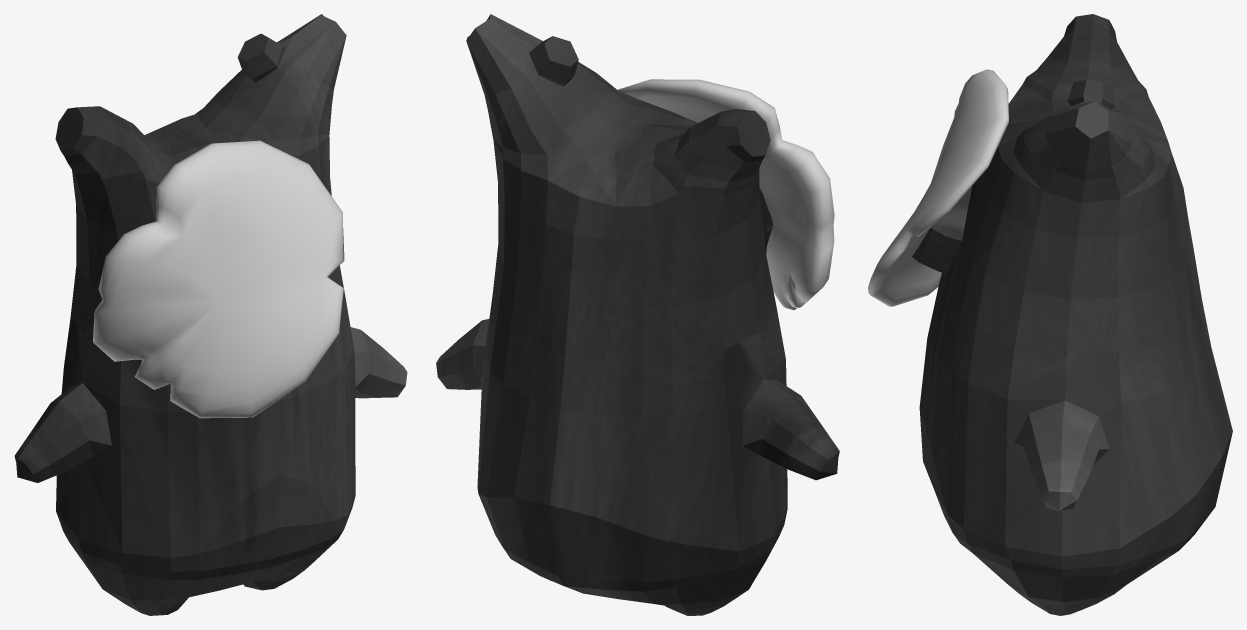
The model's file is frame_0081.obj.
3 renders of one model, left to right at view 1: azimuth 30°, elevation 25°; view 2: azimuth 150°, elevation 25°; view 3: azimuth 270°, elevation 25°, orthographic. The views are drawn at different scales.
Visible parts, largest first — view 1: korok, leaf; view 2: korok, leaf; view 3: korok, leaf, nose.
Part boxes in pixels (<box>): korok: <box>14,14,407,615</box>; leaf: <box>93,140,344,418</box>; korok: <box>436,14,839,615</box>; leaf: <box>617,79,834,309</box>; korok: <box>919,14,1232,615</box>; leaf: <box>868,69,1008,306</box>; nose: <box>912,187,971,273</box>.
Bounding box in the file's own units: 1.67 × 2.25 × 1.36.
